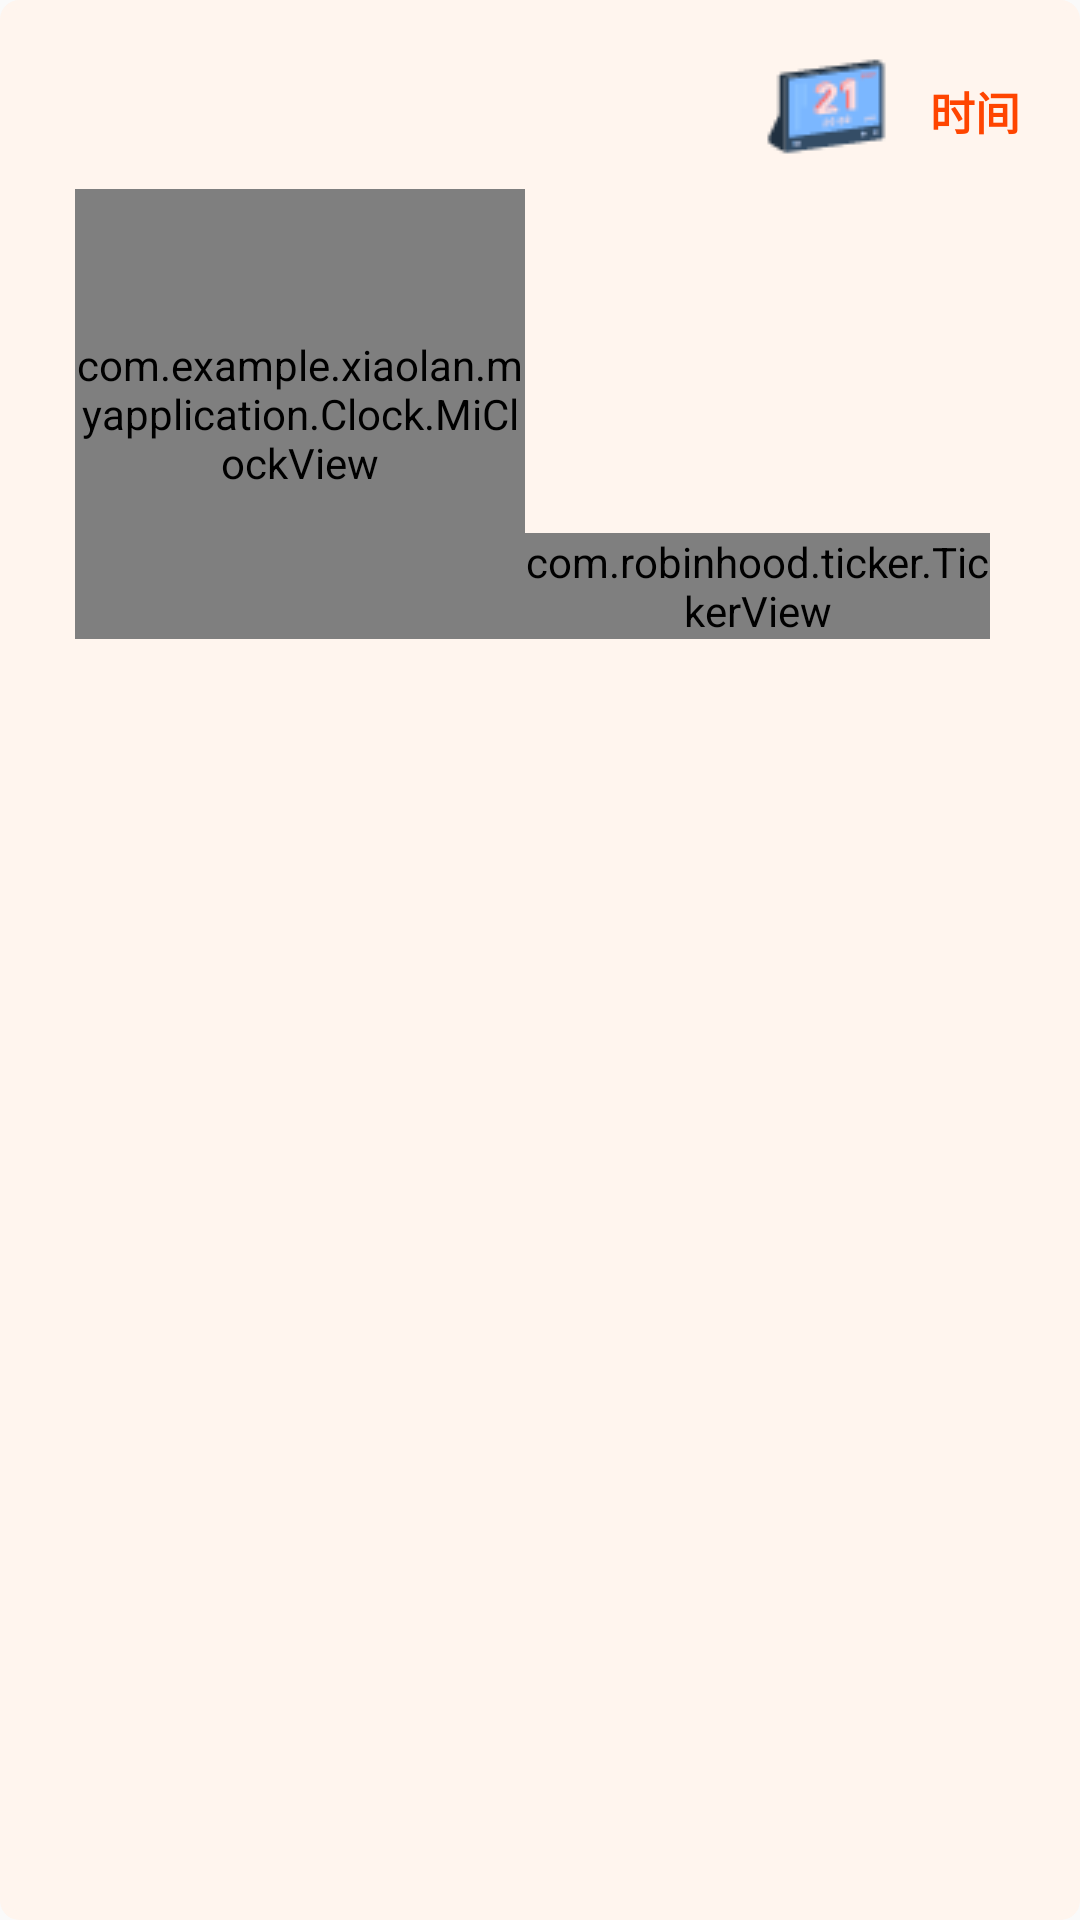

Where icons sit on this 1080px x 1920px app screen, as (x1, y1, x2, y2):
timeicon: (767, 59, 886, 154)
